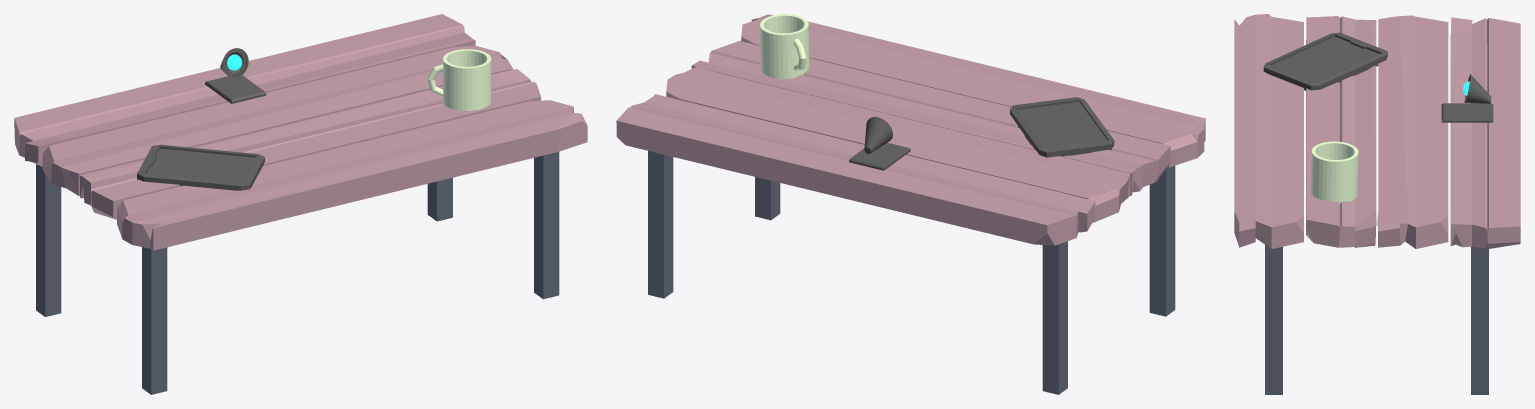
Rendered from table2.gltf.
The picture shows the model from 3 angles, left to right: view 1: azimuth 30°, elevation 25°; view 2: azimuth 150°, elevation 25°; view 3: azimuth 270°, elevation 25°; orthographic projection. The views are drawn at different scales.
Parts seen in each view (by area): view 1: WoodPlank1, Ipad, Leg4, Leg1, Leg3, cup, CameraBase, Leg2; view 2: WoodPlank1, Ipad, Leg3, Leg4, Leg2, cup, Leg1, CameraBase, Camera; view 3: WoodPlank1, Ipad, cup, Leg1, Leg2, CameraBase, Camera.
Part boxes in pixels (x1=…): WoodPlank1: x1=14, y1=14, x2=587, y2=250; Ipad: x1=137, y1=144, x2=264, y2=190; Leg4: x1=142, y1=247, x2=167, y2=394; Leg1: x1=534, y1=152, x2=559, y2=299; Leg3: x1=36, y1=164, x2=61, y2=316; cup: x1=427, y1=49, x2=491, y2=110; CameraBase: x1=205, y1=75, x2=266, y2=103; Leg2: x1=427, y1=177, x2=452, y2=221; WoodPlank1: x1=616, y1=14, x2=1205, y2=245; Ipad: x1=1010, y1=97, x2=1114, y2=157; Leg3: x1=1042, y1=241, x2=1067, y2=394; Leg4: x1=1149, y1=166, x2=1175, y2=316; Leg2: x1=648, y1=151, x2=673, y2=298; cup: x1=760, y1=14, x2=809, y2=78; Leg1: x1=755, y1=177, x2=780, y2=220; CameraBase: x1=849, y1=142, x2=910, y2=170; Camera: x1=864, y1=117, x2=892, y2=153; WoodPlank1: x1=1234, y1=14, x2=1520, y2=248; Ipad: x1=1263, y1=32, x2=1387, y2=90; cup: x1=1310, y1=141, x2=1358, y2=203; Leg1: x1=1265, y1=245, x2=1282, y2=394; Leg2: x1=1471, y1=246, x2=1488, y2=394; CameraBase: x1=1441, y1=103, x2=1493, y2=122; Camera: x1=1464, y1=74, x2=1491, y2=103.
Bounding box in the file's own units: 7.91 × 3.75 × 4.48.
